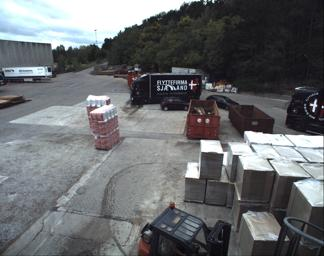rockwool_batts: (91, 105, 119, 149), (85, 92, 110, 120)
